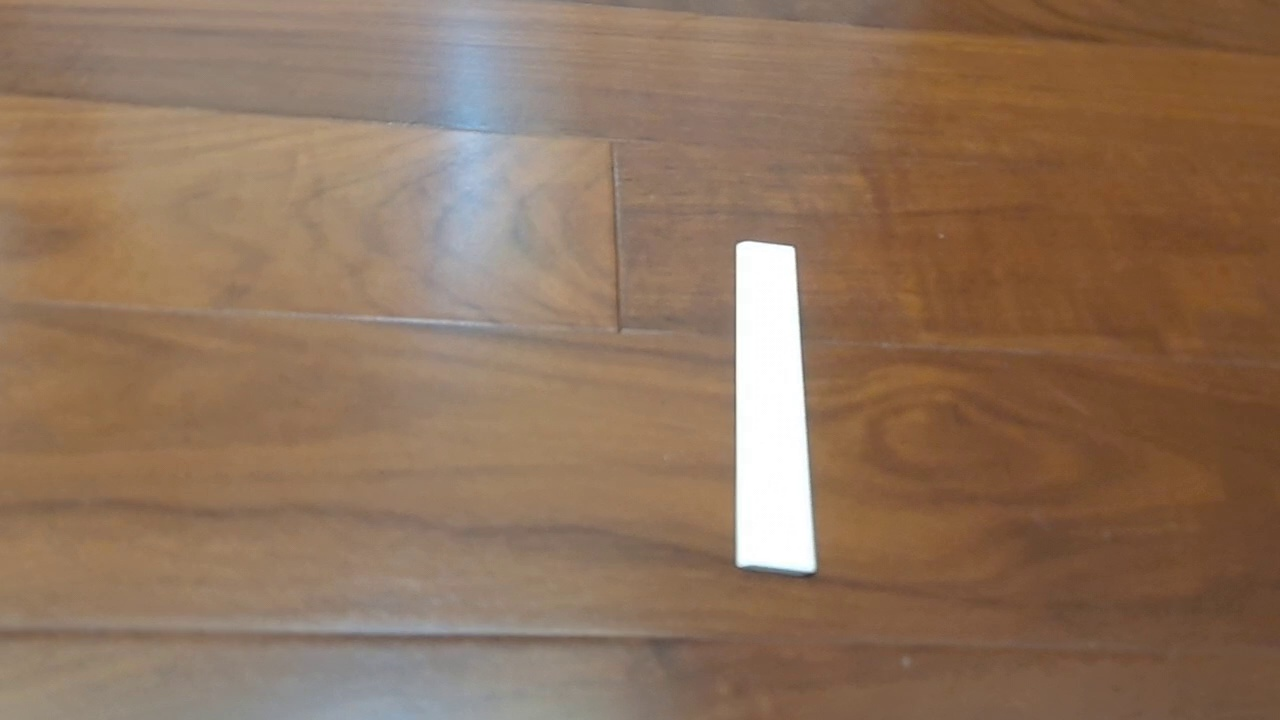ruler: (733, 239, 819, 579)
